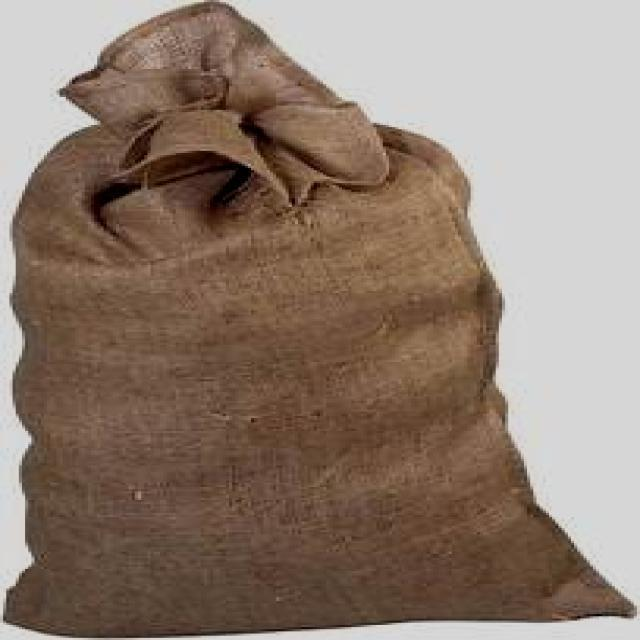gunny_bag: (2, 0, 640, 640)
